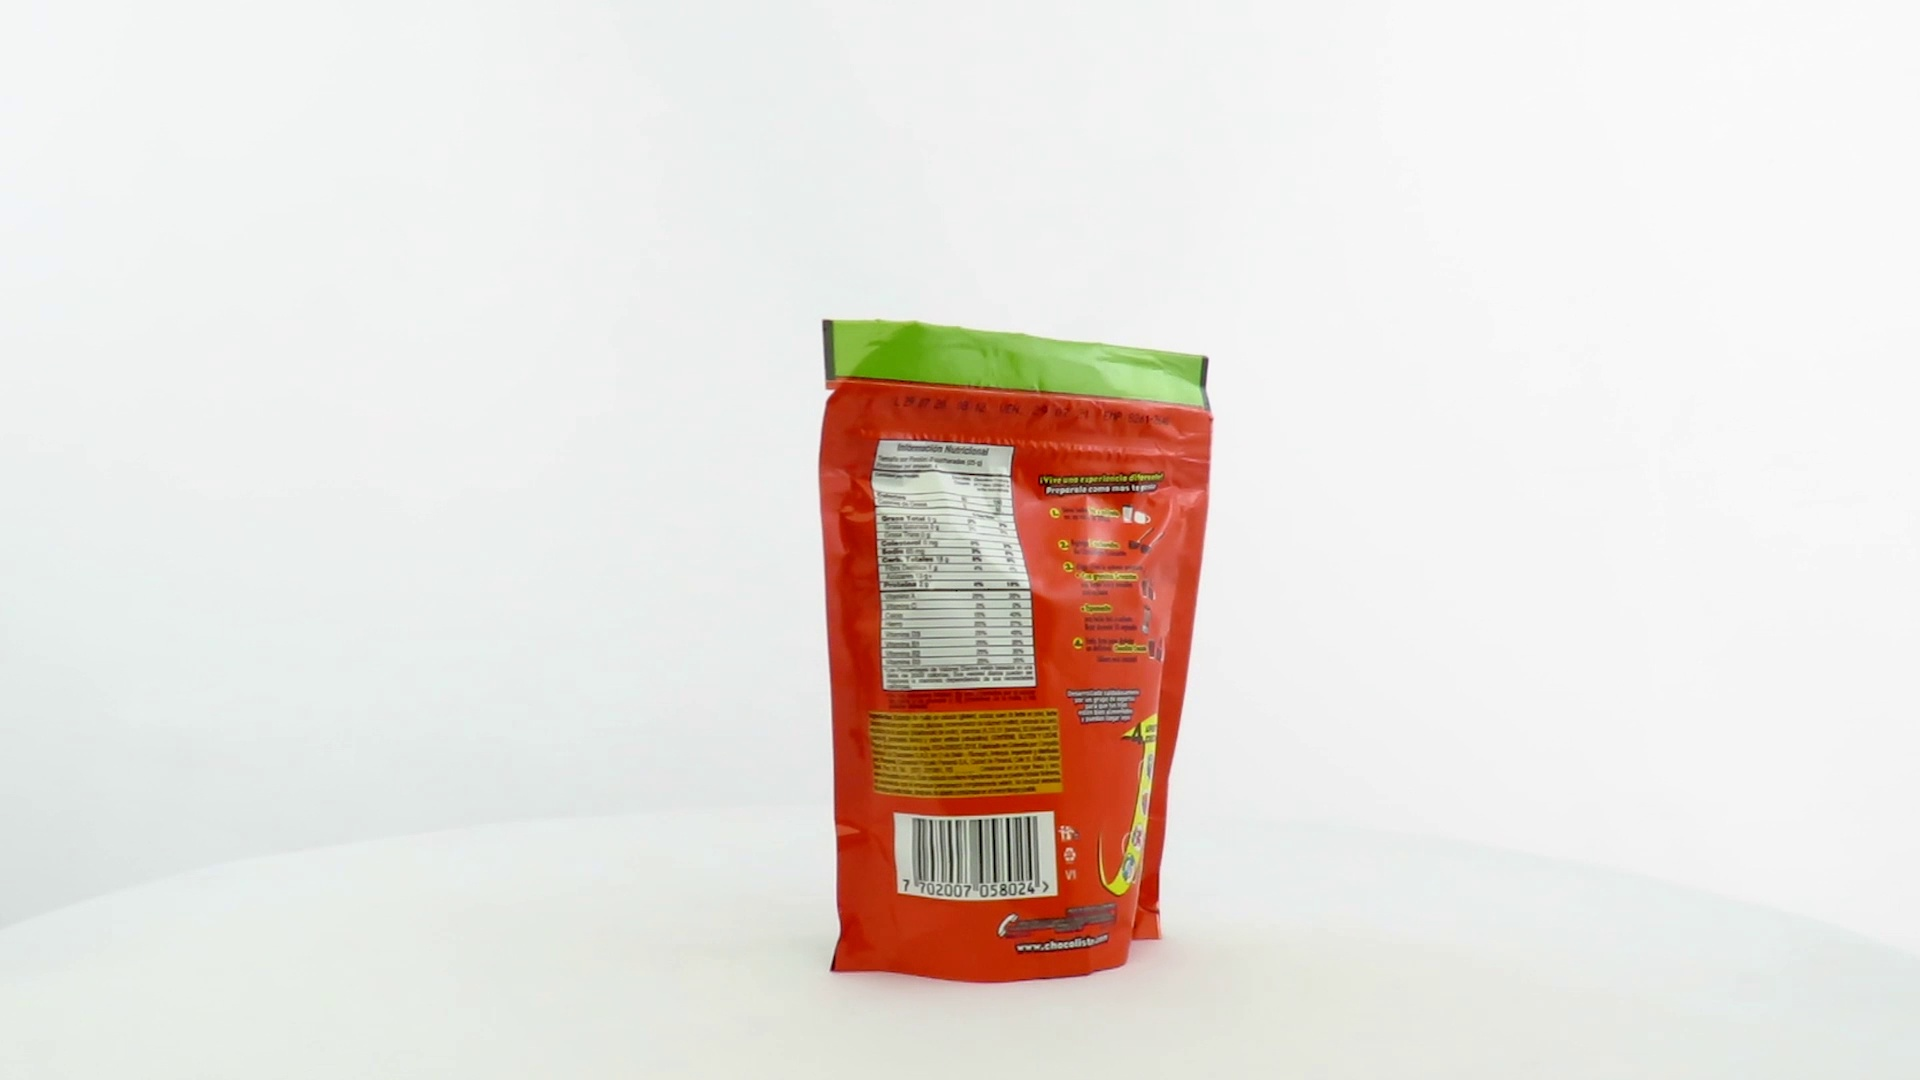COL0170102DYP10000: (814, 314, 1220, 990)
